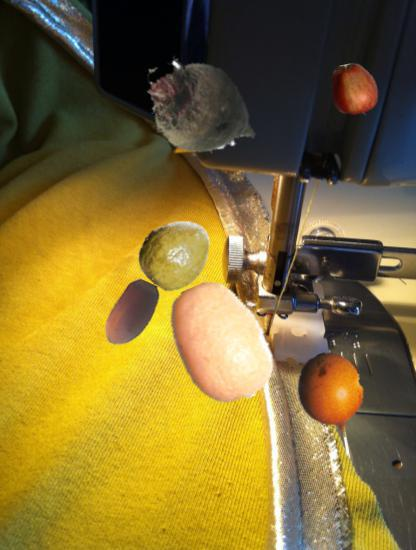Apple: (327, 63, 382, 118)
Beetroot: (133, 43, 262, 172)
Granadilla: (288, 352, 376, 440)
Guava: (137, 214, 214, 291)
Hazelnut: (95, 278, 169, 352)
Kumquats: (159, 280, 284, 405)
